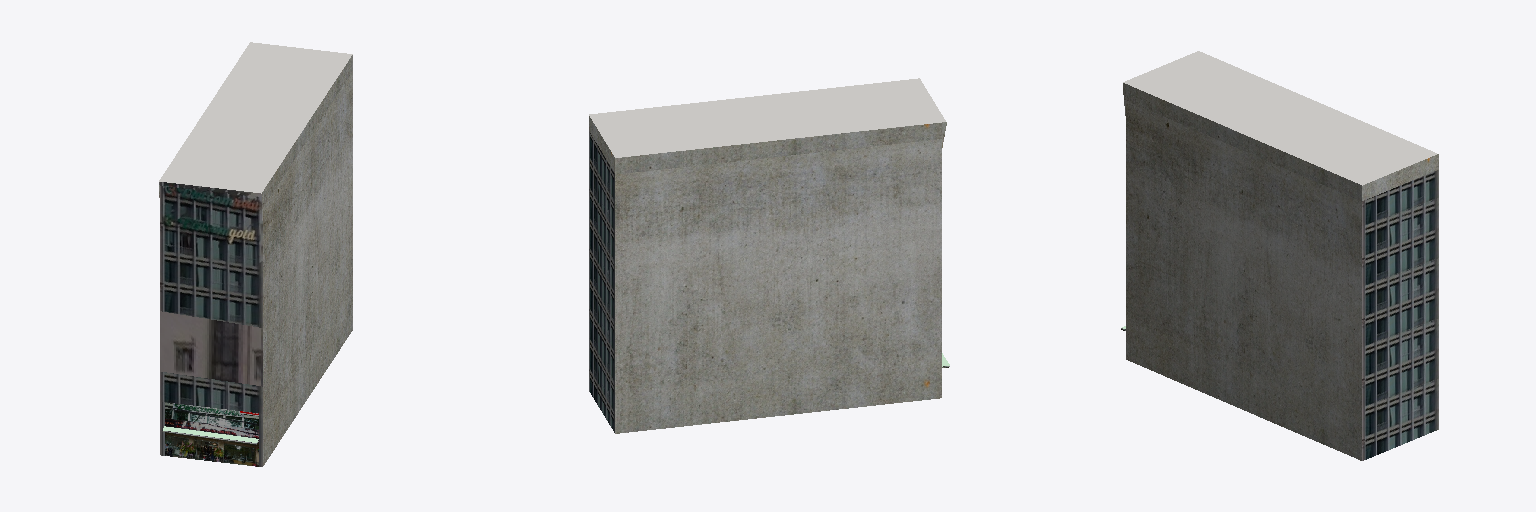
The picture shows the model from 3 angles: view 1: azimuth 30°, elevation 25°; view 2: azimuth 150°, elevation 25°; view 3: azimuth 270°, elevation 25°; orthographic projection.
Visible parts, largest first — view 1: Mesh1 VCBNguyenHue1 Model; view 2: Mesh1 VCBNguyenHue1 Model; view 3: Mesh1 VCBNguyenHue1 Model.
Part boxes in pixels (bbox=[...]): Mesh1 VCBNguyenHue1 Model: bbox=[159, 42, 352, 466]; Mesh1 VCBNguyenHue1 Model: bbox=[589, 78, 949, 433]; Mesh1 VCBNguyenHue1 Model: bbox=[1121, 51, 1438, 460].
Size of the model in its own units: 36.26 by 34.57 by 36.02.
Materials: 15 (13 with a texture image).